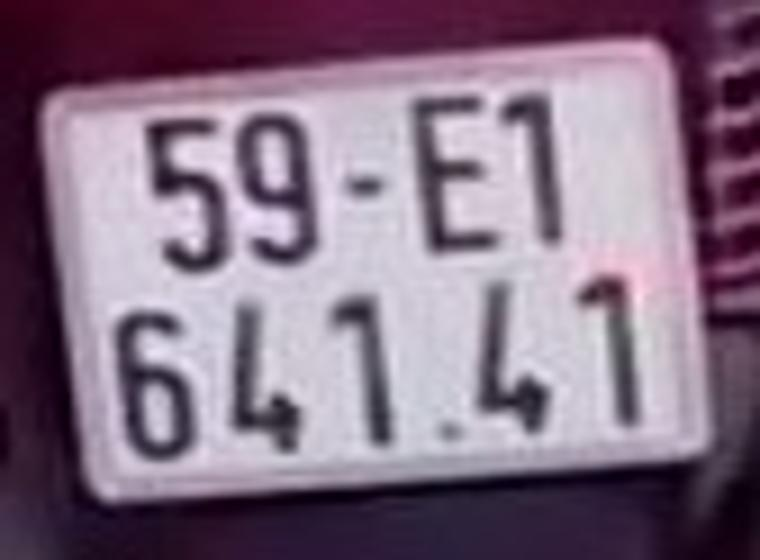-: (344, 177, 377, 191)
.: (440, 425, 461, 442)
1: (579, 277, 645, 430), (503, 95, 567, 243), (334, 298, 394, 449)
4: (223, 304, 304, 458), (471, 283, 549, 431)
5: (143, 121, 224, 273)
6: (111, 311, 197, 457)
9: (241, 117, 318, 265)
E: (412, 100, 493, 248)
